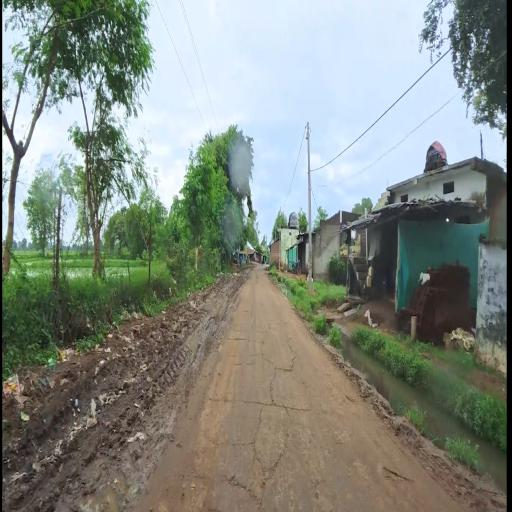longitudinal_crack: (225, 311, 314, 506)
